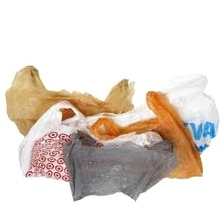plastic_bag: (6, 105, 164, 193), (80, 88, 211, 187), (4, 62, 140, 145), (106, 70, 221, 162), (58, 137, 185, 205)
